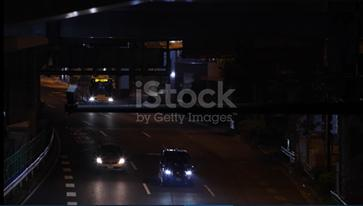bus: (75, 70, 127, 117)
car: (156, 142, 201, 191), (85, 139, 135, 181)
